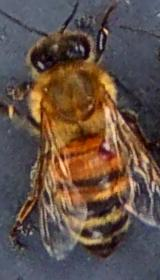varroa_mite: (93, 131, 123, 160)
